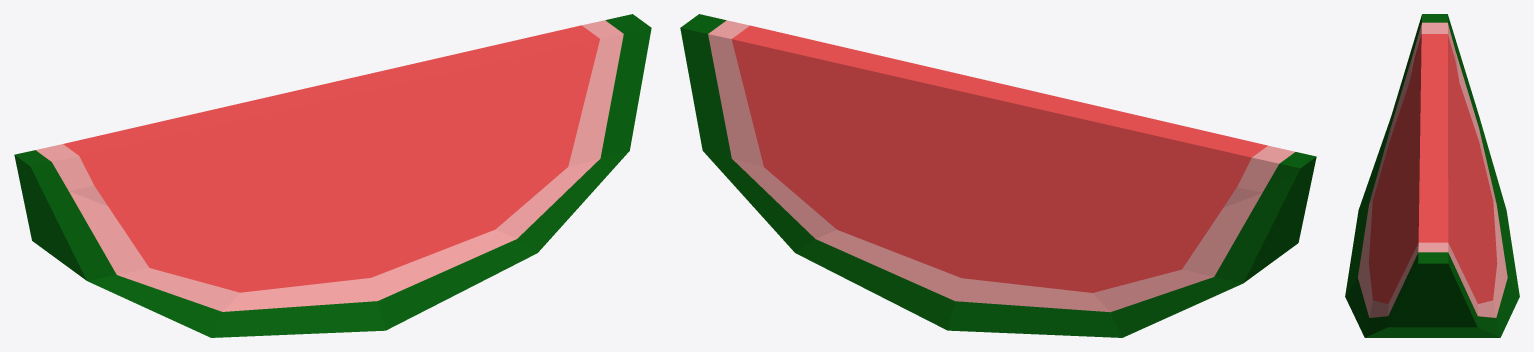
File: watermelon03.obj
3 views of the same model, side by side, from view 1: azimuth 30°, elevation 25°; view 2: azimuth 150°, elevation 25°; view 3: azimuth 270°, elevation 25° (orthographic). The views are drawn at different scales.
Parts seen in each view (by area): view 1: Cylinder.001; view 2: Cylinder.001; view 3: Cylinder.001.
Boxes of the visible parts, left/top/right/bottom form: Cylinder.001: left=14, top=14, right=651, bottom=337; Cylinder.001: left=680, top=14, right=1316, bottom=337; Cylinder.001: left=1345, top=14, right=1519, bottom=337.
Size of the model in its own units: 0.2047 by 0.0645 by 0.0627.
Materials: 1 (1 with a texture image).
